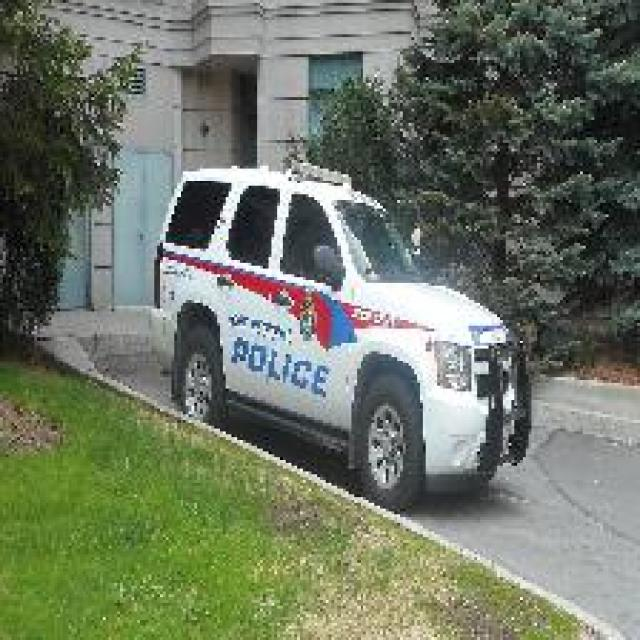Police-car: (146, 154, 534, 512)
